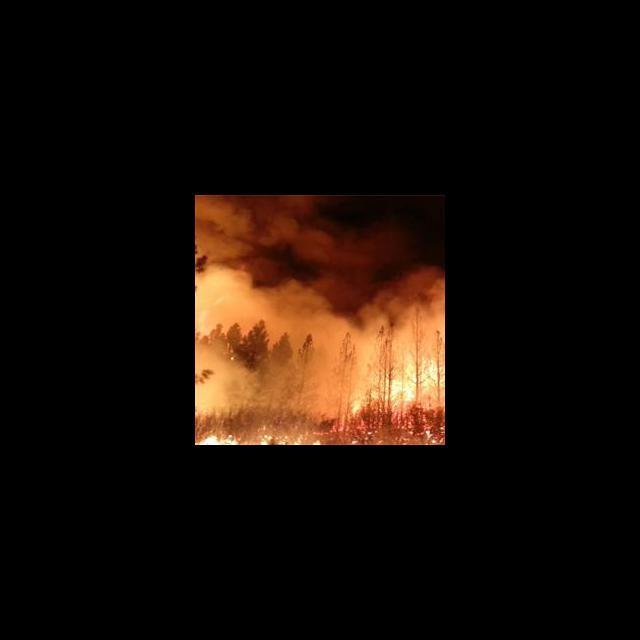Fire: (195, 357, 444, 444)
